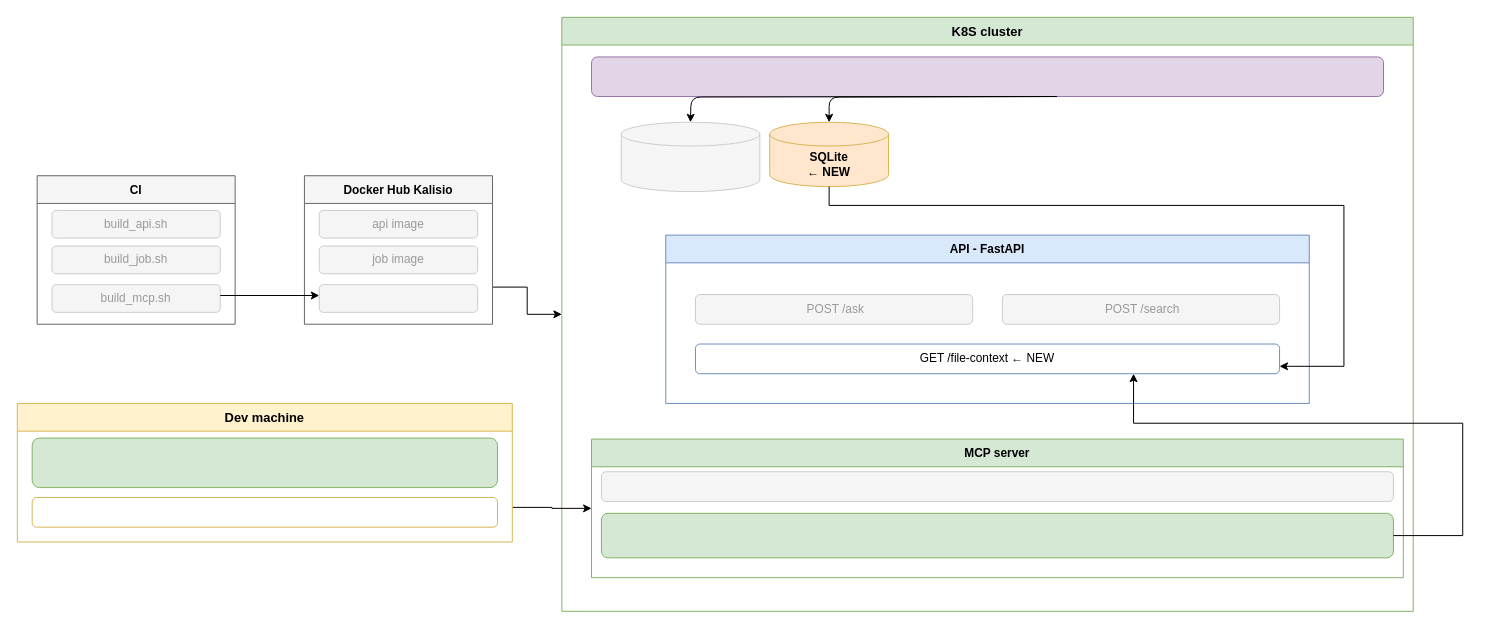
Image size: 1488x629. Some labels were removed from this diagram. Each missing label, with the centre of its shape:
Agent code (vibe, geminicli, claude code, codex): the point at 264,462
Agent usage - check cost / token usage / pertinence response: the point at 264,511
get_file_context(path) ← NEW: the point at 996,535
ingestion job · git indexer ← NEW: the point at 987,76
mcp image: the point at 398,298
Qdrant: the point at 690,156
search_code: the point at 996,486
